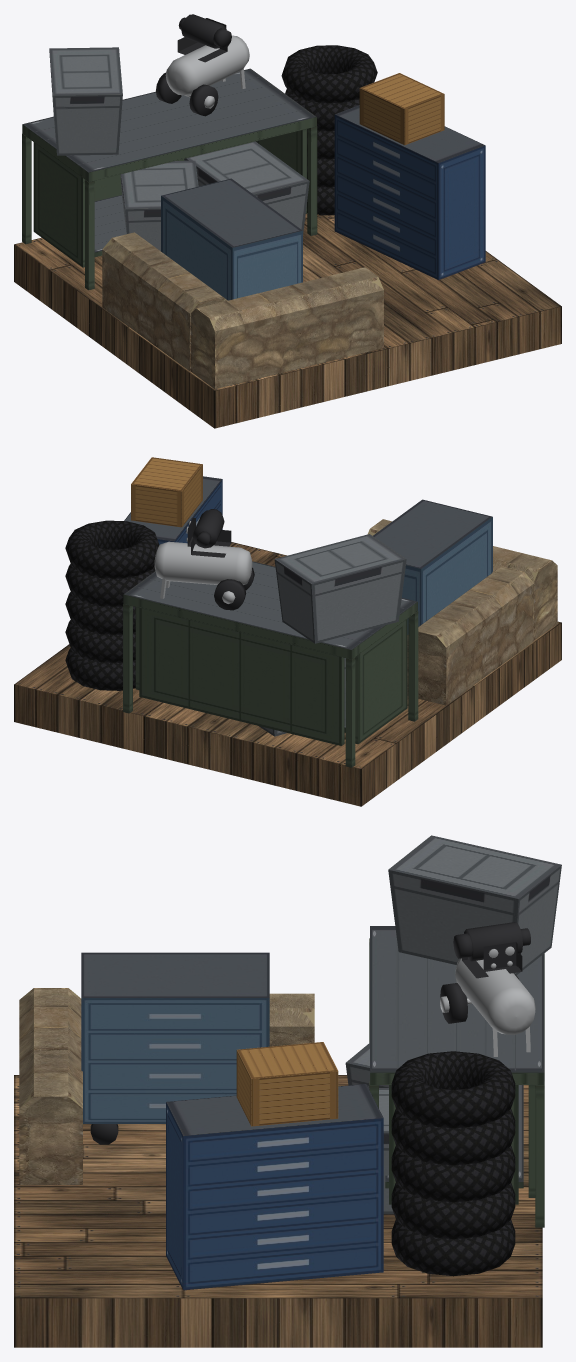
Rendered from repair.glb.
3 renders of one model, top to bottom at view 1: azimuth 30°, elevation 25°; view 2: azimuth 150°, elevation 25°; view 3: azimuth 270°, elevation 25°, orthographic. The views are drawn at different scales.
Parts seen in each view (by area): view 1: SM_RepairStation_stage1_Nanite.001; view 2: SM_RepairStation_stage1_Nanite.001; view 3: SM_RepairStation_stage1_Nanite.001.
Boxes of the visible parts, x1,y1,x2,y2 form: SM_RepairStation_stage1_Nanite.001: (14, 14, 561, 428); SM_RepairStation_stage1_Nanite.001: (14, 457, 561, 806); SM_RepairStation_stage1_Nanite.001: (14, 835, 561, 1347).
Size of the model in its own units: 3.09 by 1.96 by 3.17.
Materials: 6 (4 with a texture image).
